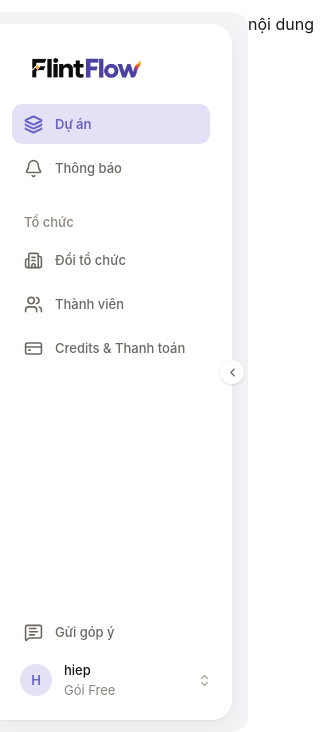
AppSidebar › thu gọn: chỉ còn icon, nhớ qua localStorage
Click the button named "Thu gọn thanh bên" at (232, 372), box left=220, top=360, right=244, bottom=384
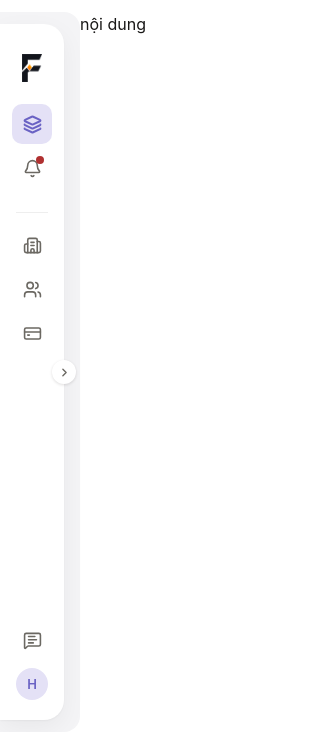
expect the button named "Mở rộng thanh bên" is shown: met, box left=52, top=360, right=76, bottom=384
